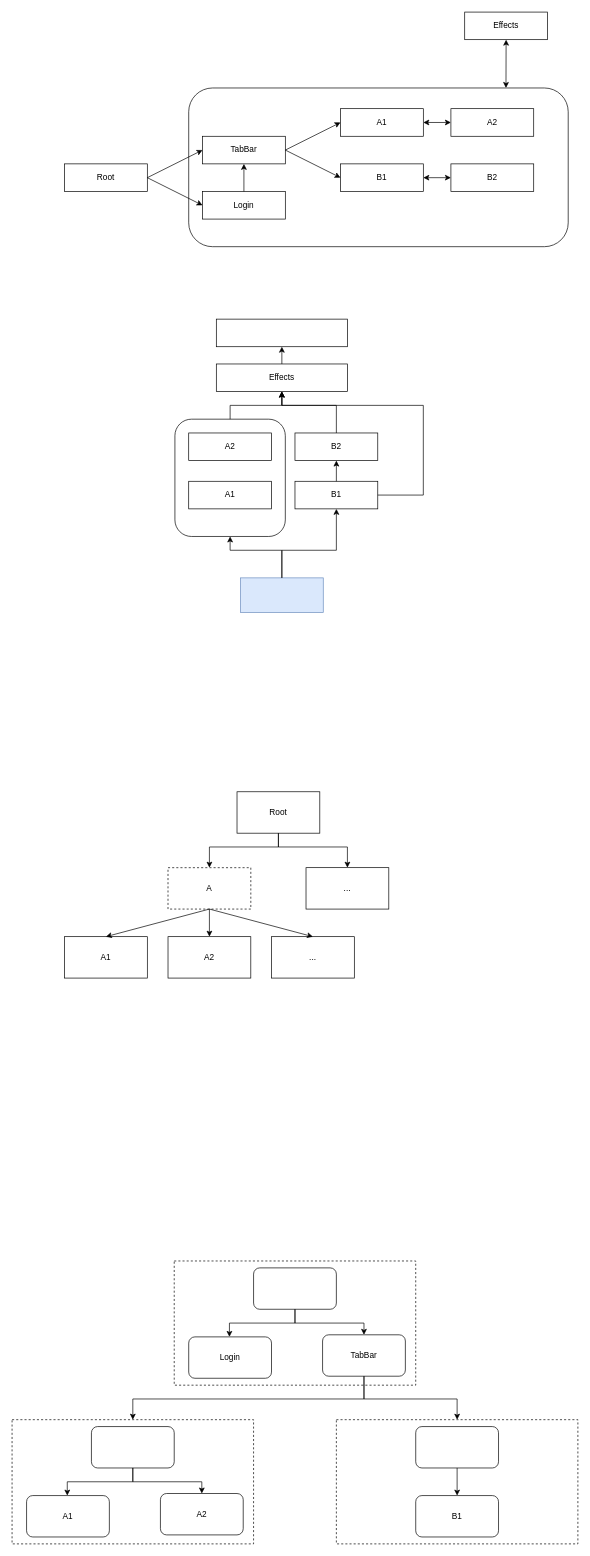
The diagram is 590 pixels wide and 1556 high, and some of its shapes have lost their labels. Here are the shapes that lost their labels. From the top down, the centre of each, then its label:
At point 281,332: "Composable Architecture".
At point 281,594: "Modular-TCA".
At point 294,1288: "RootCoordinator".
At point 132,1447: "ACoordinator".
At point 457,1447: "BCoordinator".
